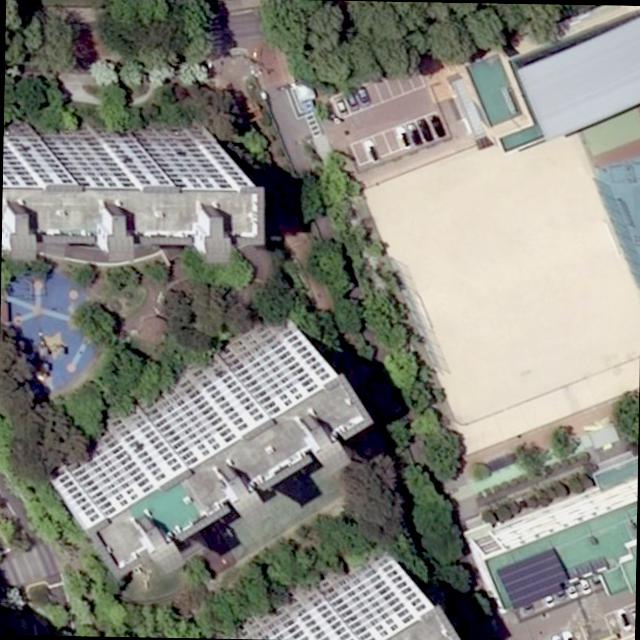solar: (494, 546, 570, 611)
